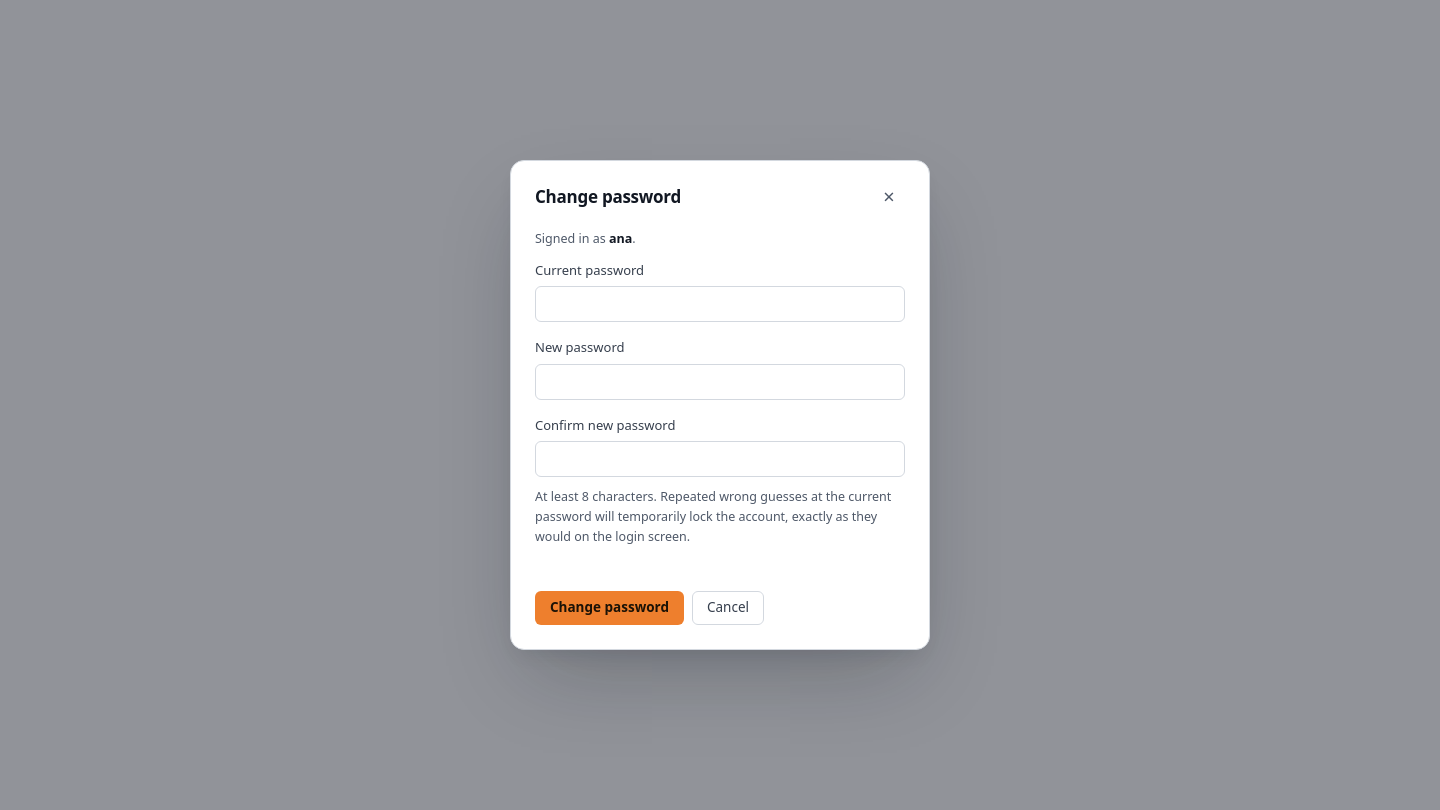
Test: ChangePasswordModal — the rules, before anything is sent › refuses a mistyped confirmation
The width and height of the screenshot is (1440, 810).
In the 1st password field: (720,304) [535, 286, 905, 322], type "oldpassword"
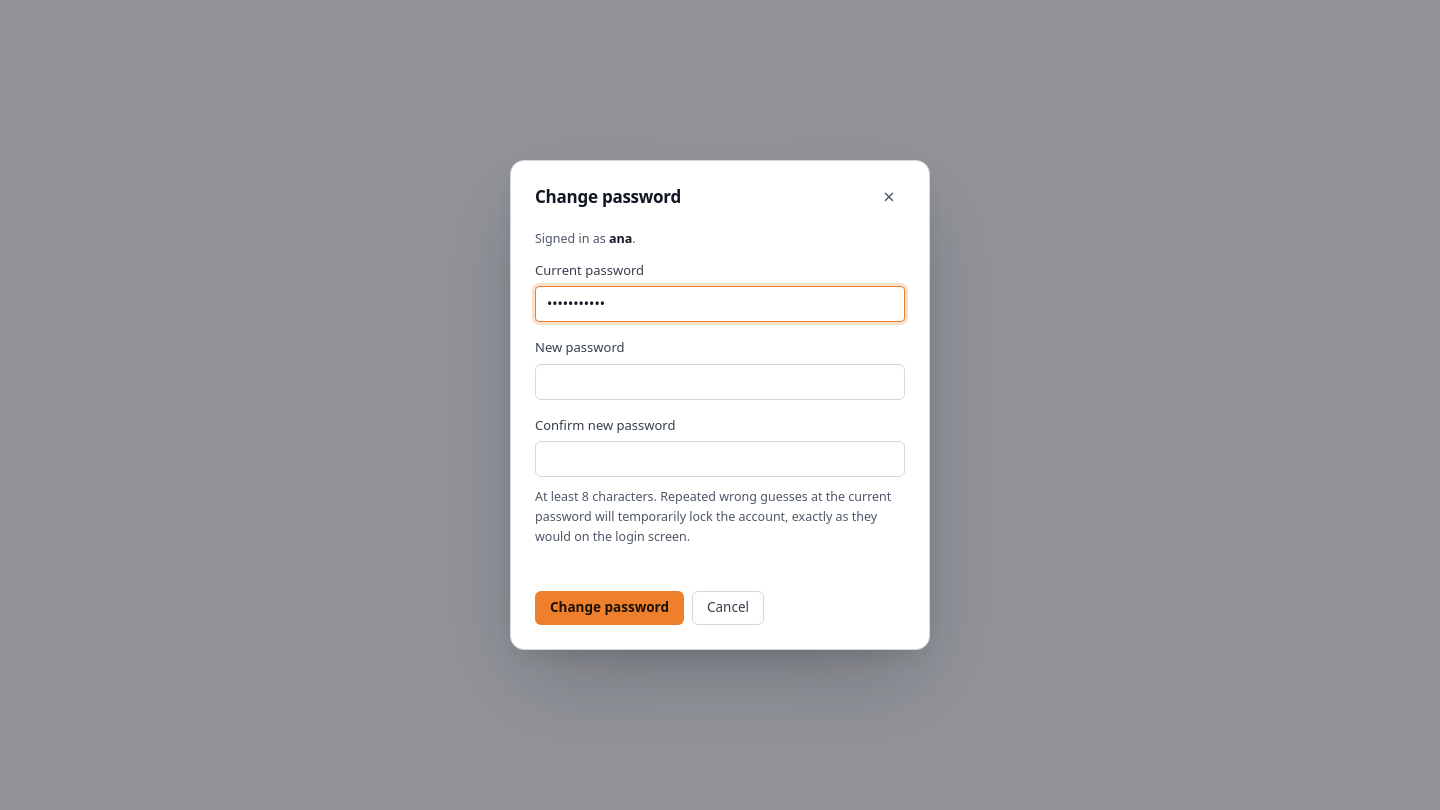
In the 2nd password field: (720,382) [535, 364, 905, 400], type "a-good-new-password"
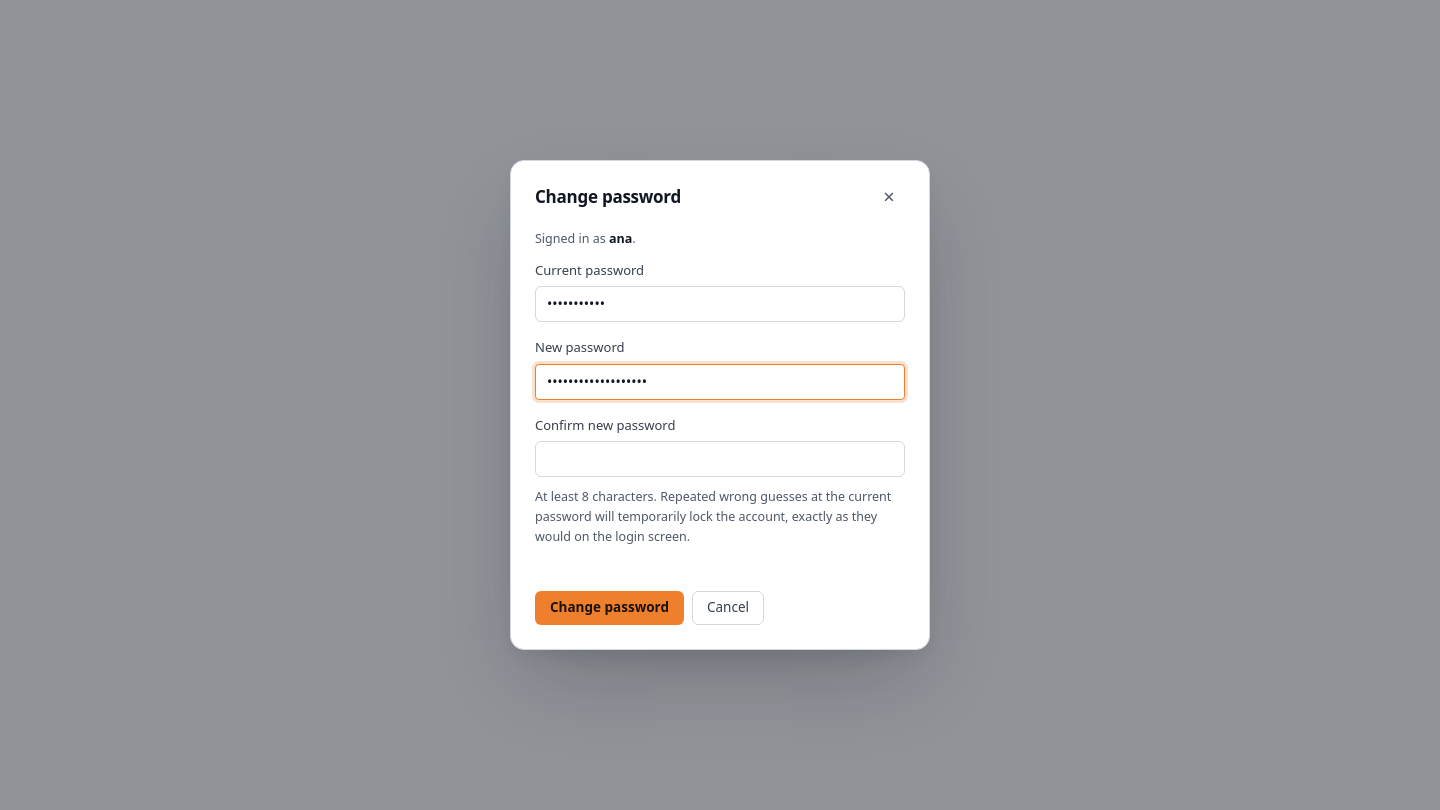
In the password field below "Confirm new password": (720,459) [535, 441, 905, 477], type "a-good-new-passwordX"
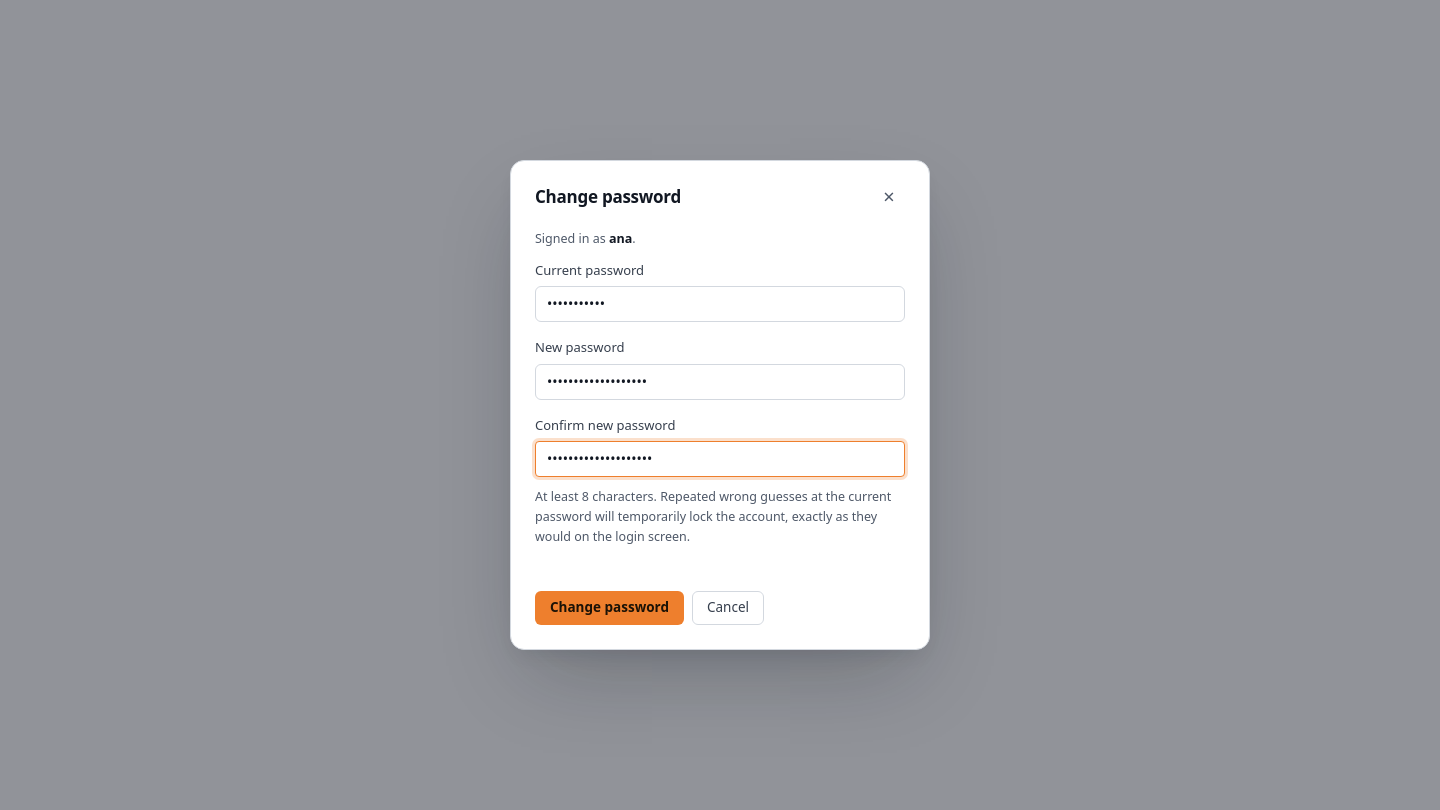
Click the button "Change password": (610,608) [535, 591, 684, 625]
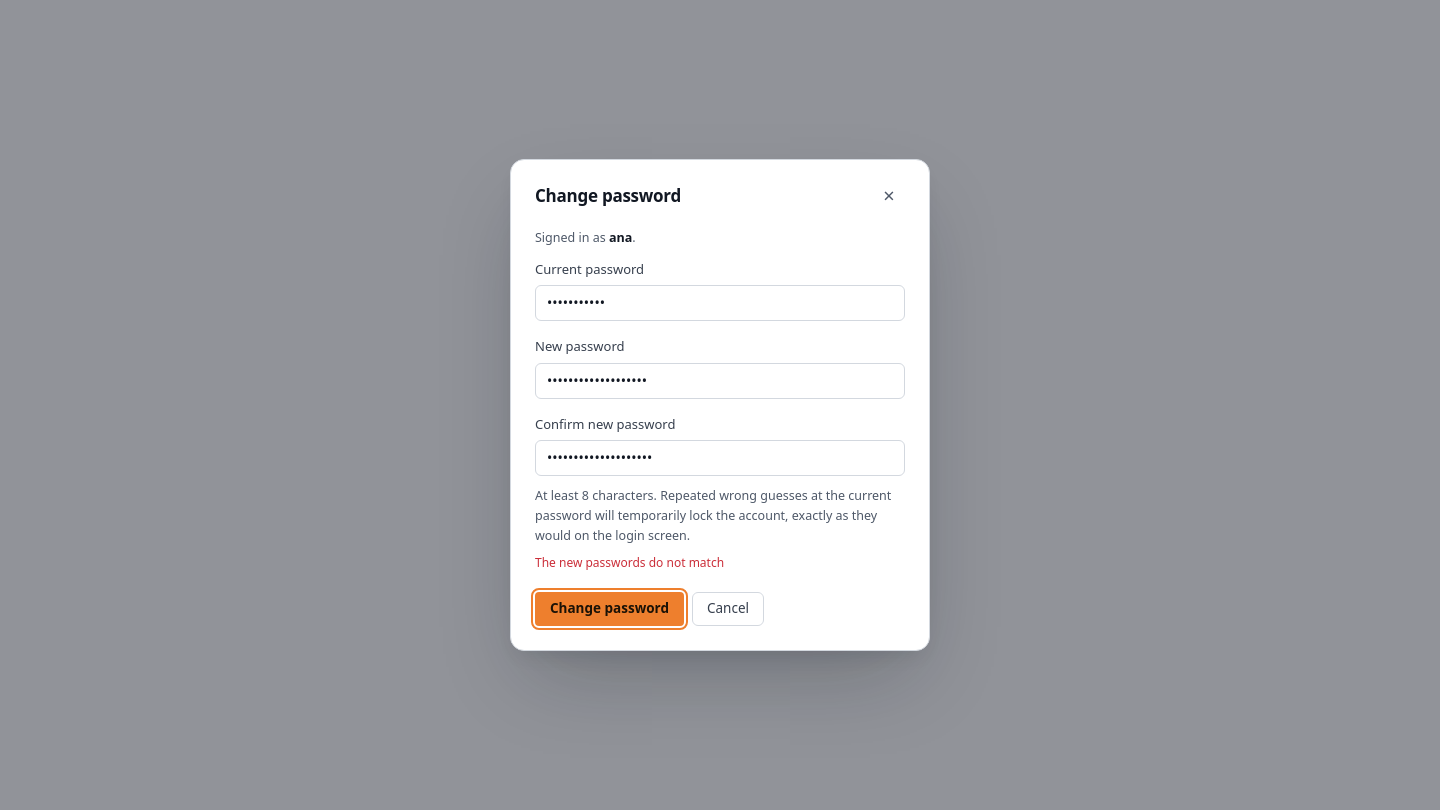
Now the text "The new passwords do not match" is shown, box [535, 554, 724, 571]
